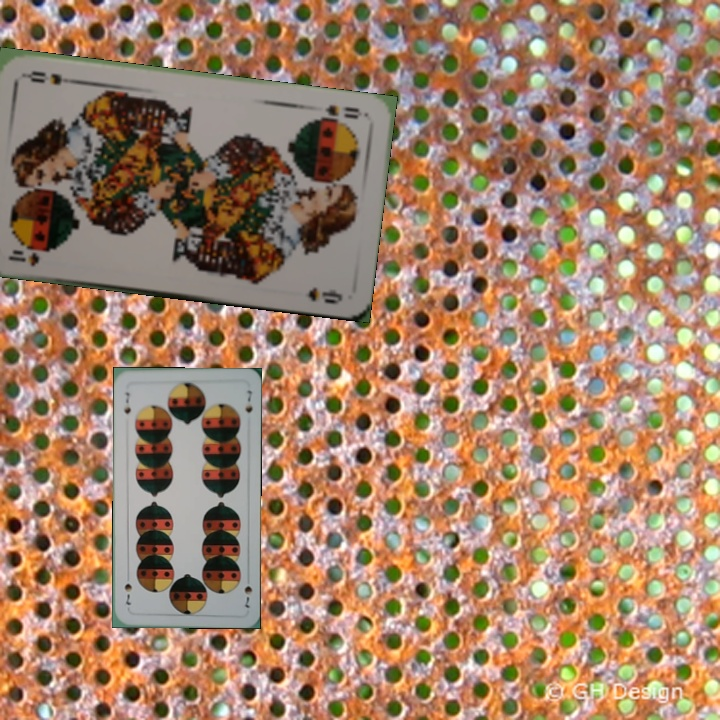S7: (240, 582, 254, 611), (120, 388, 133, 416)
SO: (4, 244, 52, 269), (322, 101, 361, 121)
